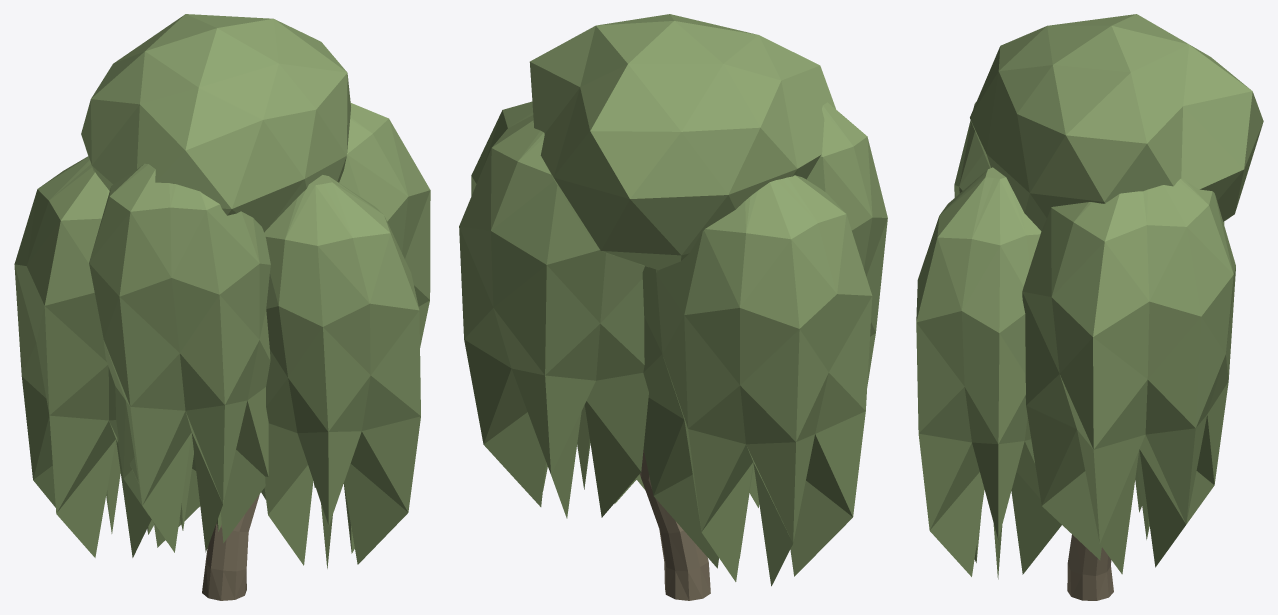
File: willow.fbx
3 renders of one model, left to right at view 1: azimuth 30°, elevation 25°; view 2: azimuth 150°, elevation 25°; view 3: azimuth 270°, elevation 25°, orthographic. The views are drawn at different scales.
Visible parts, largest first — view 1: willow; view 2: willow; view 3: willow.
Boxes of the visible parts, box(x1,y1,x2,y2) form: willow: box(14, 14, 430, 600); willow: box(459, 14, 887, 600); willow: box(916, 14, 1263, 600).
Size of the model in its own units: 8 by 11 by 6.11.
